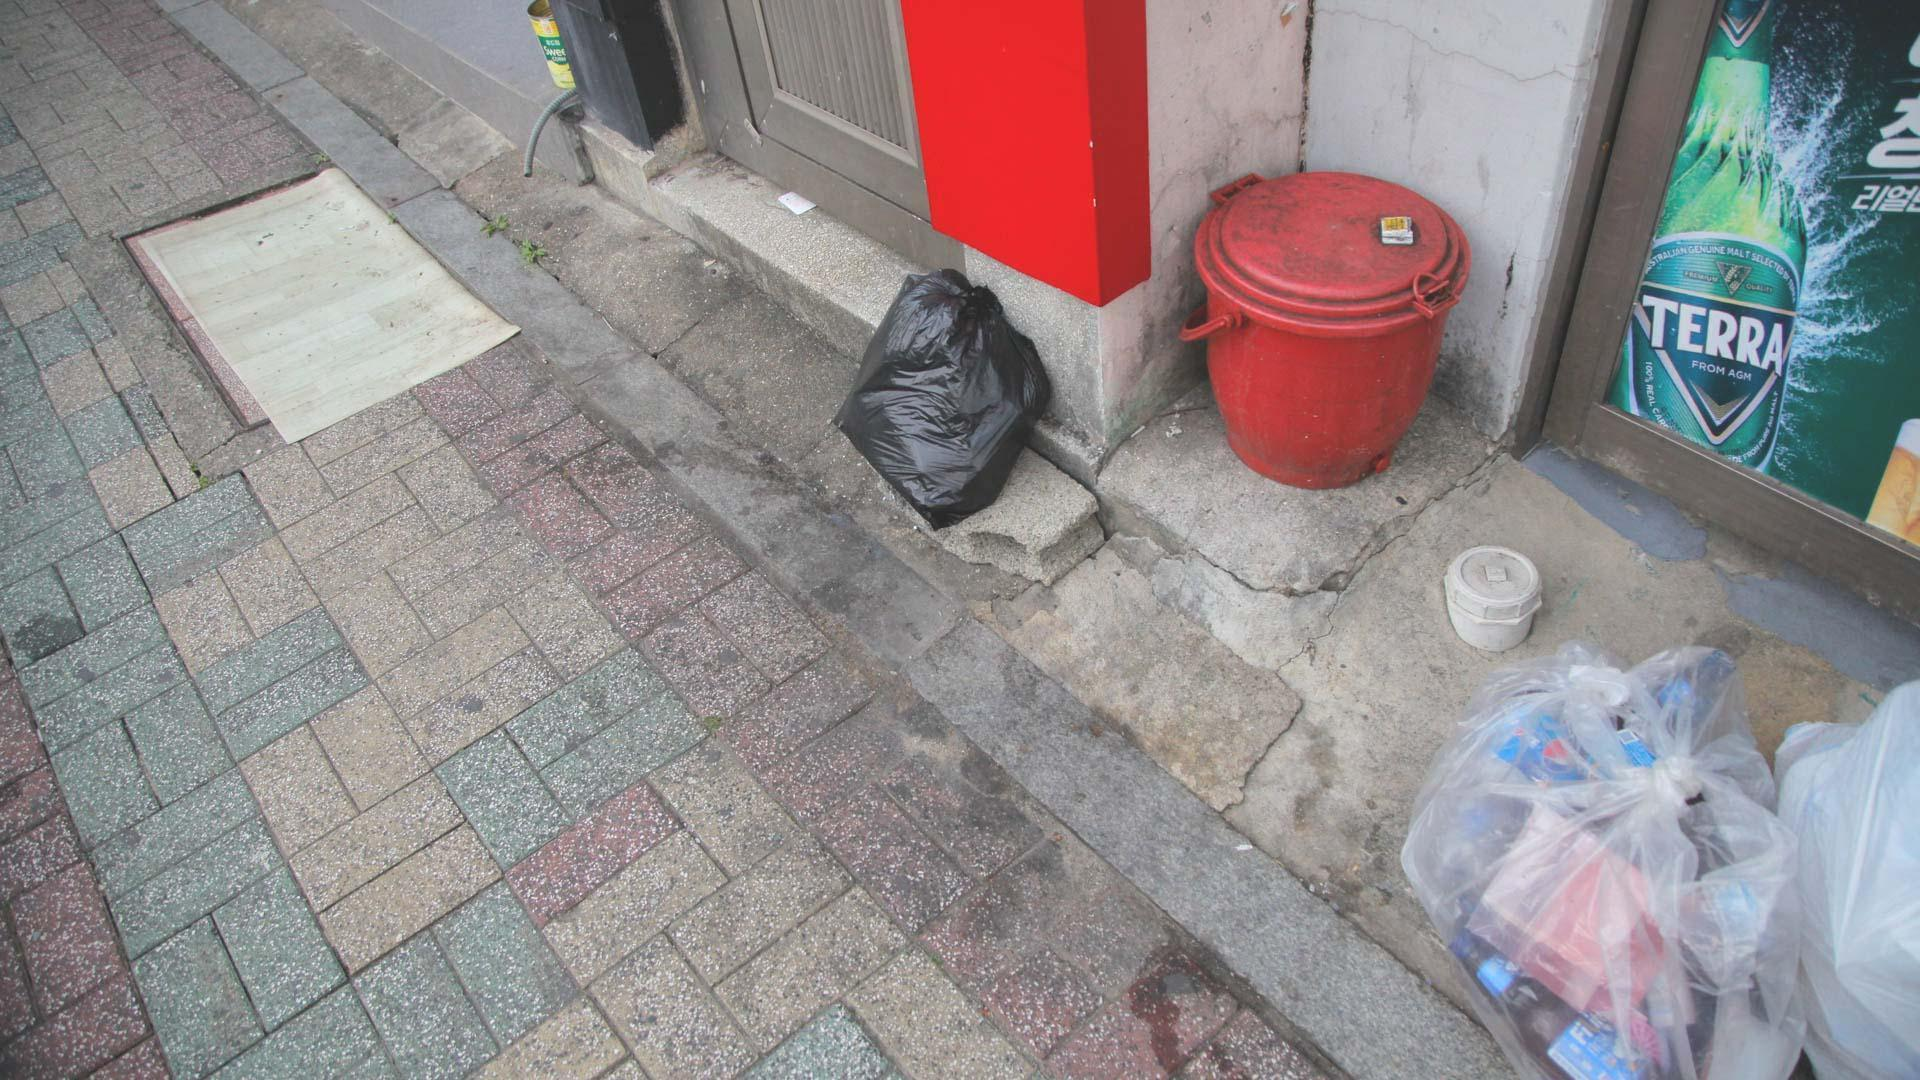black_bag: (818, 256, 1062, 535)
white_bag: (1377, 618, 1818, 1079)
